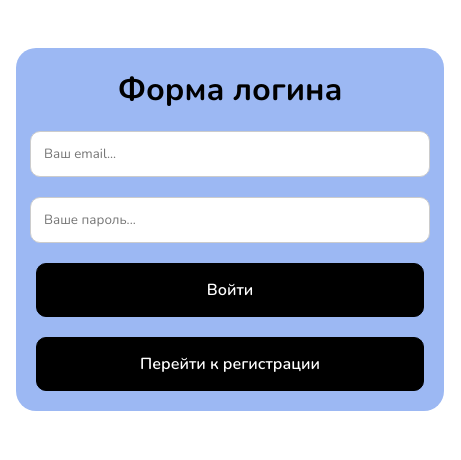
Scenario: login component tests › submit button validates input values and throws some errors
The image size is (461, 460).
Click the button "Войти" at point(230, 290), box left=36, top=262, right=424, bottom=316
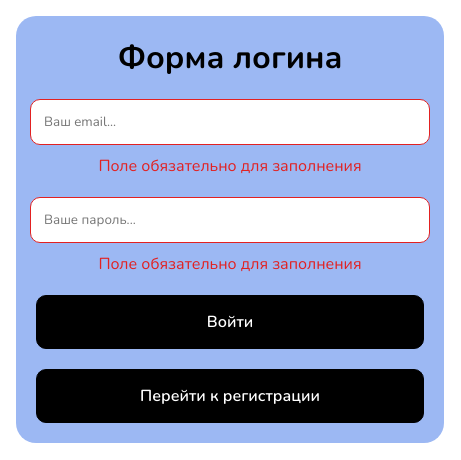
Expected: the 1st text "Поле обязательно для заполнения" is shown, left=98, top=154, right=362, bottom=176
